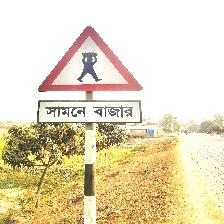Market-in-front: (37, 26, 144, 125)
